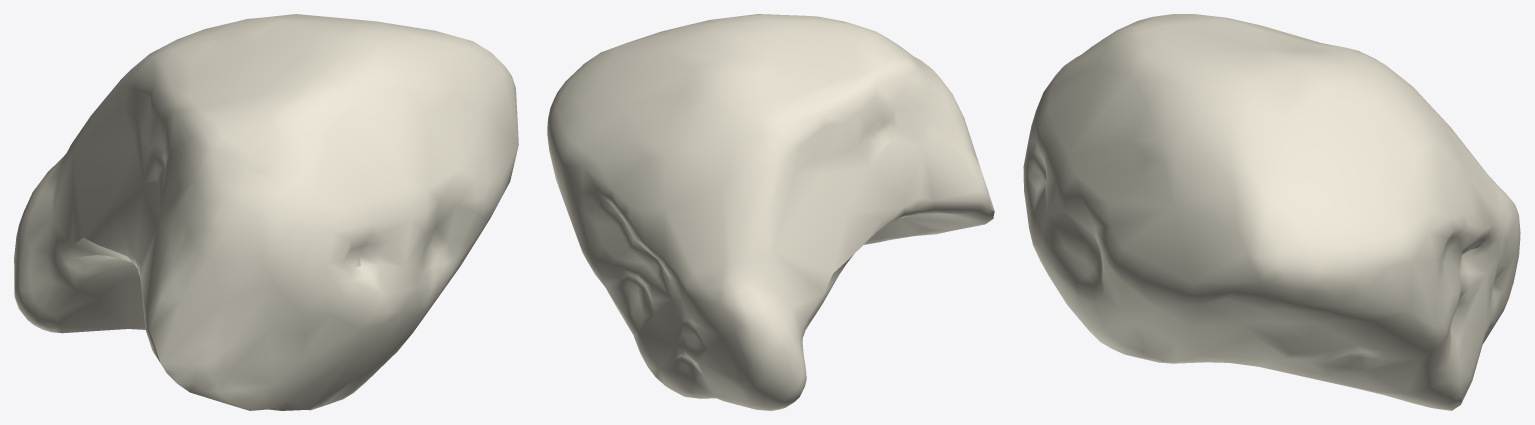
Rendered from fma24437_mm1897.glb.
3 views of the same model, side by side, from view 1: azimuth 30°, elevation 25°; view 2: azimuth 150°, elevation 25°; view 3: azimuth 270°, elevation 25° (orthographic). The views are drawn at different scales.
Parts seen in each view (by area): view 1: FMA24437_MM1897; view 2: FMA24437_MM1897; view 3: FMA24437_MM1897.
Boxes of the visible parts, x1=… form: FMA24437_MM1897: x1=14, y1=14, x2=518, y2=410; FMA24437_MM1897: x1=547, y1=14, x2=994, y2=410; FMA24437_MM1897: x1=1023, y1=14, x2=1520, y2=410.
Size of the model in its own units: 0.0171 by 0.0133 by 0.0167.
